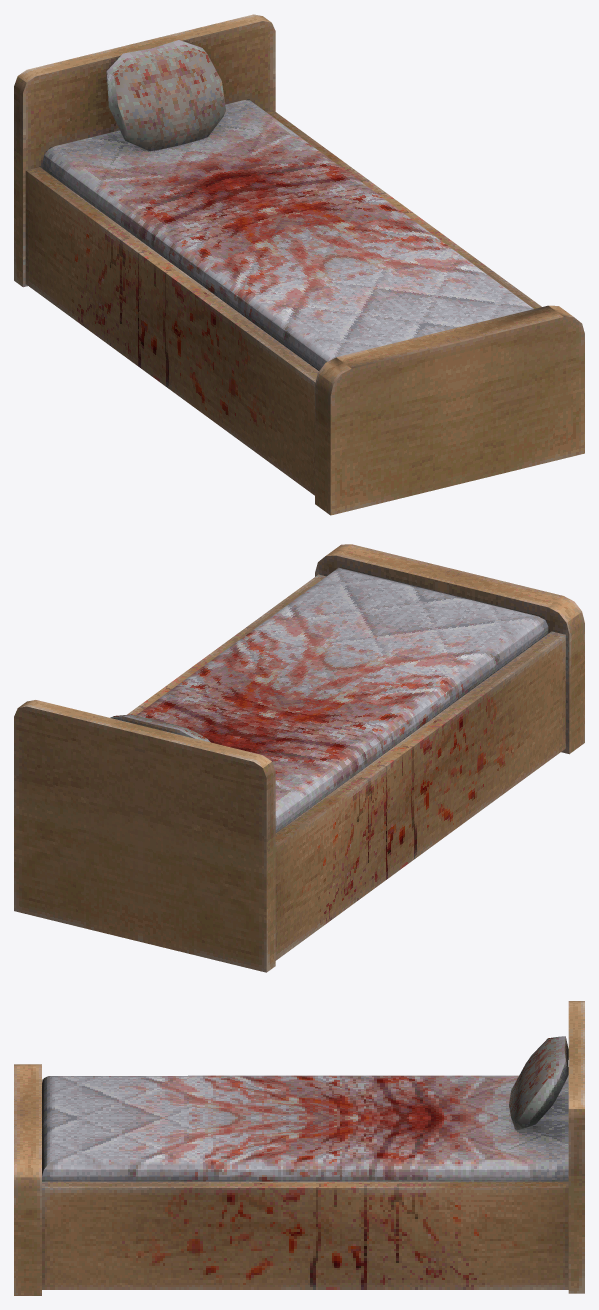
Rendered from psx_bed_with_blood.glb.
The picture shows the model from 3 angles, top to bottom: view 1: azimuth 30°, elevation 25°; view 2: azimuth 150°, elevation 25°; view 3: azimuth 270°, elevation 25°; orthographic projection. The views are drawn at different scales.
Parts seen in each view (by area): view 1: Bed; view 2: Bed; view 3: Bed.
Part boxes in pixels (box(x1,y1,x2,y2)): Bed: box(14, 14, 584, 515); Bed: box(14, 544, 584, 972); Bed: box(14, 1001, 584, 1295).
Bounding box in the file's own units: 0.9423 × 0.7549 × 2.04.
1 material, 1 textured.
